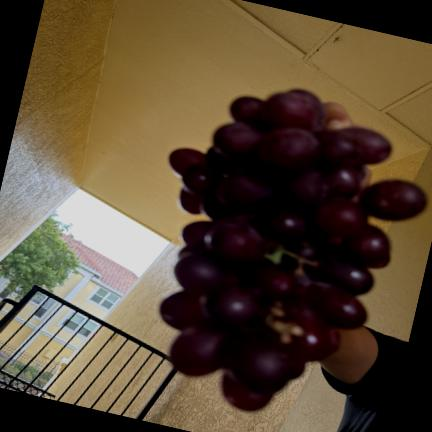grape_cluster: (160, 90, 426, 410)
